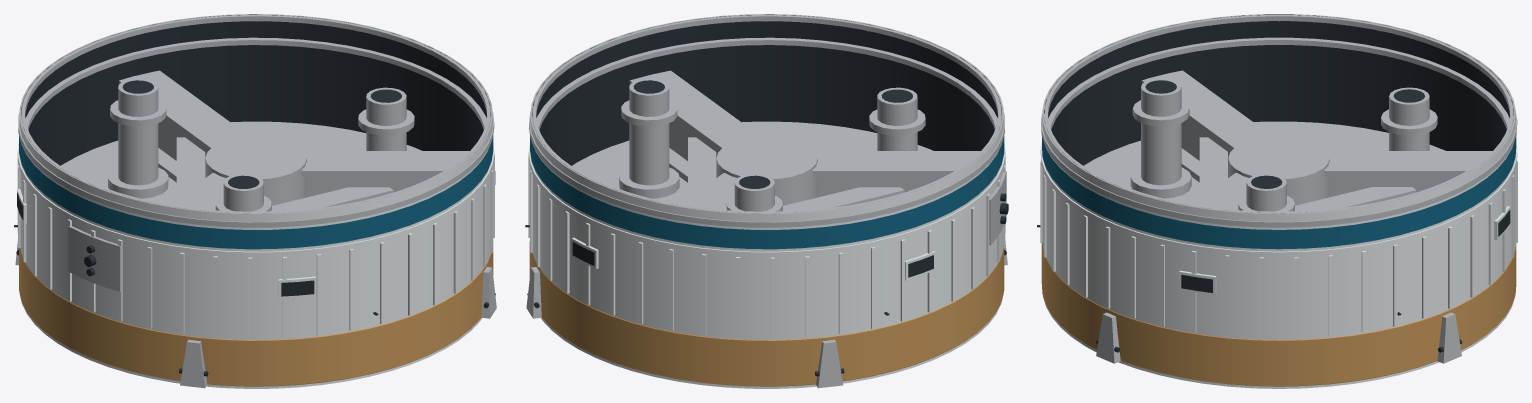
Rendered from mount_s1_3_d54.fbx.
The picture shows the model from 3 angles, left to right: view 1: azimuth 30°, elevation 25°; view 2: azimuth 150°, elevation 25°; view 3: azimuth 270°, elevation 25°; orthographic projection.
Parts seen in each view (by area): view 1: mount_s1_3_d54_LOD0; view 2: mount_s1_3_d54_LOD0; view 3: mount_s1_3_d54_LOD0.
Part boxes in pixels (box(x1,y1,x2,y2)): mount_s1_3_d54_LOD0: box(14, 14, 496, 388); mount_s1_3_d54_LOD0: box(525, 14, 1008, 388); mount_s1_3_d54_LOD0: box(1037, 14, 1517, 388).
Size of what is drawn, in the model's own units: 5.44 by 2.2 by 5.48.
